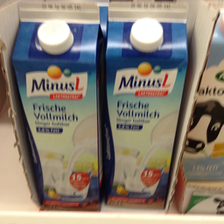milk: (13, 1, 106, 212), (104, 1, 191, 211)
